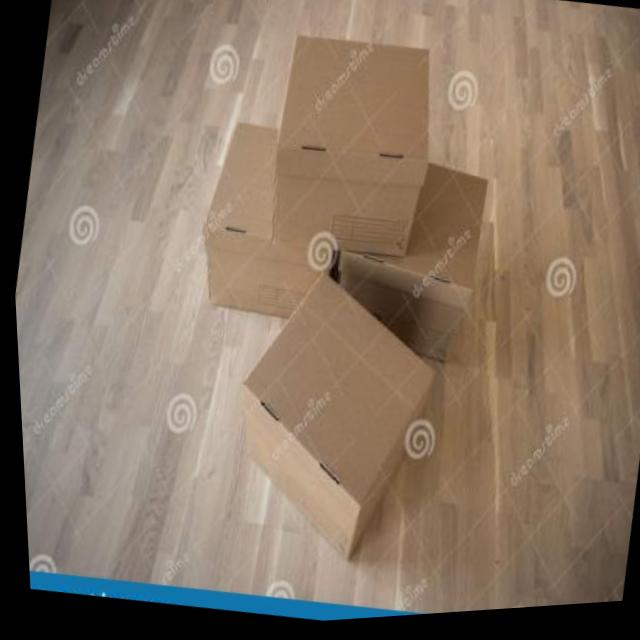box: (212, 277, 463, 606), (247, 12, 458, 280), (317, 144, 521, 383), (177, 110, 360, 340)
